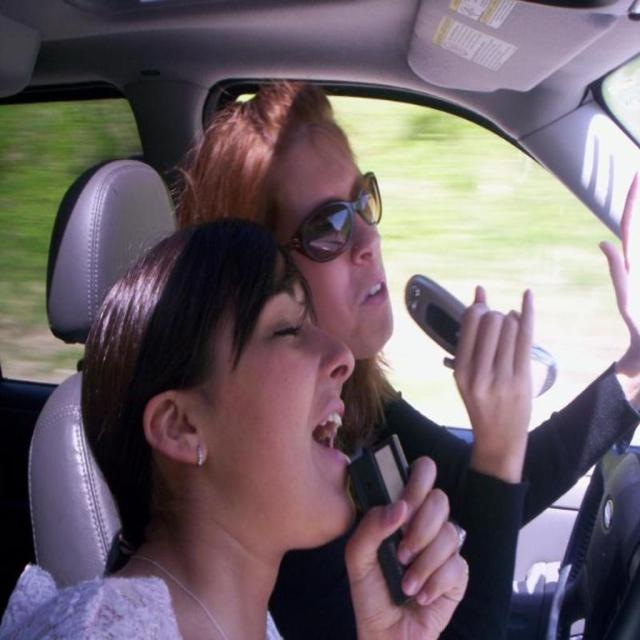Face: (193, 261, 368, 552), (264, 110, 399, 349)
